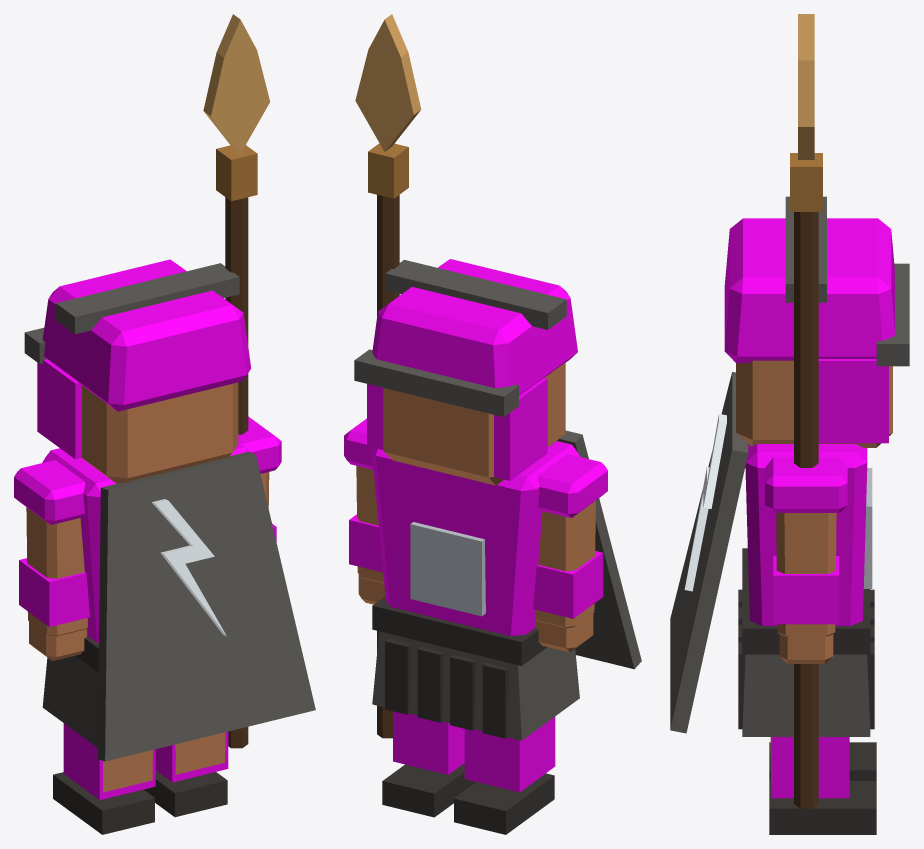
The model's file is CH_ThunderChampion_StormGrey.fbx.
3 renders of one model, left to right at view 1: azimuth 30°, elevation 25°; view 2: azimuth 150°, elevation 25°; view 3: azimuth 270°, elevation 25°, orthographic. The views are drawn at different scales.
Parts seen in each view (by area): view 1: Cape, Helm, Head, Blade, CrestBase, ArmL, Skirt, Body, CheekL, ShoulderL, SandalL, Shaft (+11 smaller); view 2: Body, Helm, Head, Skirt, Abs, Blade, CrestBase, Cape, Belt, GreaveL, Brow, CheekL (+18 smaller); view 3: Helm, Shaft, Cape, Body, Skirt, CheekR, Head, ArmR, SandalR, ShoulderR, BracerR, GreaveR (+10 smaller).
Boxes of the visible parts, x1,y1,x2,y2 form: Cape: (97, 451, 315, 761); Helm: (42, 259, 251, 411); Head: (82, 382, 238, 483); Blade: (203, 14, 269, 153); CrestBase: (56, 263, 239, 334); ArmL: (26, 507, 87, 636); Skirt: (42, 655, 98, 747); Body: (42, 442, 250, 642); CheekL: (37, 359, 81, 459); ShoulderL: (14, 460, 85, 524); SandalL: (53, 772, 154, 834); Shaft: (225, 197, 248, 748); Body: (371, 441, 580, 636); Helm: (372, 259, 577, 395); Head: (383, 362, 565, 485); Skirt: (372, 631, 579, 740); Abs: (410, 522, 485, 616); Blade: (355, 14, 421, 151); CrestBase: (385, 259, 566, 329); Cape: (557, 430, 641, 669); Belt: (372, 596, 547, 665); GreaveL: (464, 716, 555, 792); Brow: (354, 349, 518, 416); CheekL: (494, 378, 547, 480); Helm: (724, 218, 894, 363); Shaft: (794, 212, 818, 808); Cape: (670, 372, 748, 733); Body: (745, 444, 867, 625); Skirt: (742, 654, 870, 736); CheekR: (818, 359, 888, 443); Head: (736, 360, 892, 447); ArmR: (776, 513, 836, 636); SandalR: (769, 781, 876, 834); ShoulderR: (765, 457, 847, 512); BracerR: (773, 556, 839, 624); GreaveR: (771, 737, 849, 798).
Size of the model in its own units: 0.72 by 0.5793 by 2.23.
